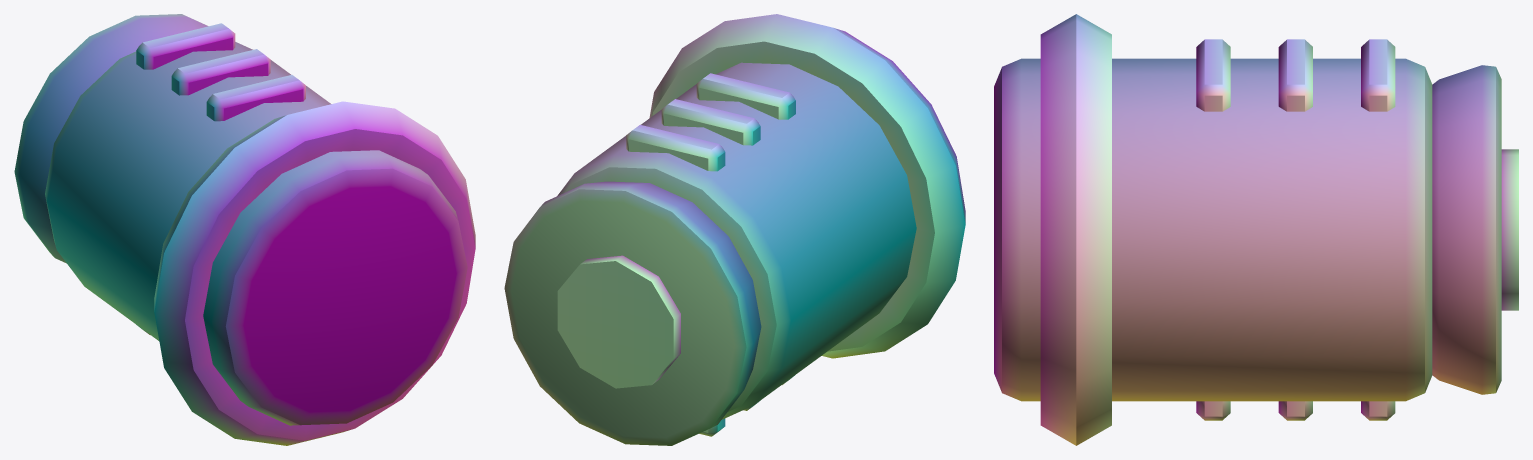
Rendered from att_muzzle.glb.
The picture shows the model from 3 angles, left to right: view 1: azimuth 30°, elevation 25°; view 2: azimuth 150°, elevation 25°; view 3: azimuth 270°, elevation 25°; orthographic projection. The views are drawn at different scales.
Visible parts, largest first — view 1: att_muzzle_mesh; view 2: att_muzzle_mesh; view 3: att_muzzle_mesh.
Boxes of the visible parts, x1=… form: att_muzzle_mesh: x1=14, y1=14, x2=475, y2=445; att_muzzle_mesh: x1=504, y1=14, x2=965, y2=445; att_muzzle_mesh: x1=994, y1=14, x2=1518, y2=445.
Size of the model in its own units: 0.0316 by 0.0311 by 0.0383.
